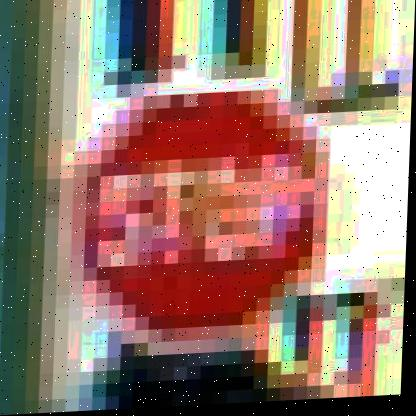Stop Sign: (63, 73, 339, 345)
